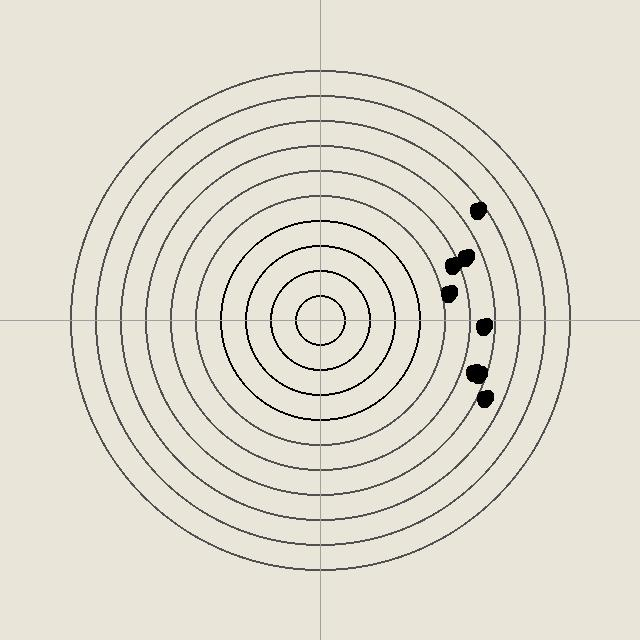vertical_scatter: (442, 255, 462, 275), (438, 283, 458, 303), (467, 200, 487, 220), (474, 388, 494, 408), (463, 362, 483, 382), (468, 364, 488, 384), (455, 247, 475, 267), (473, 316, 493, 336)
